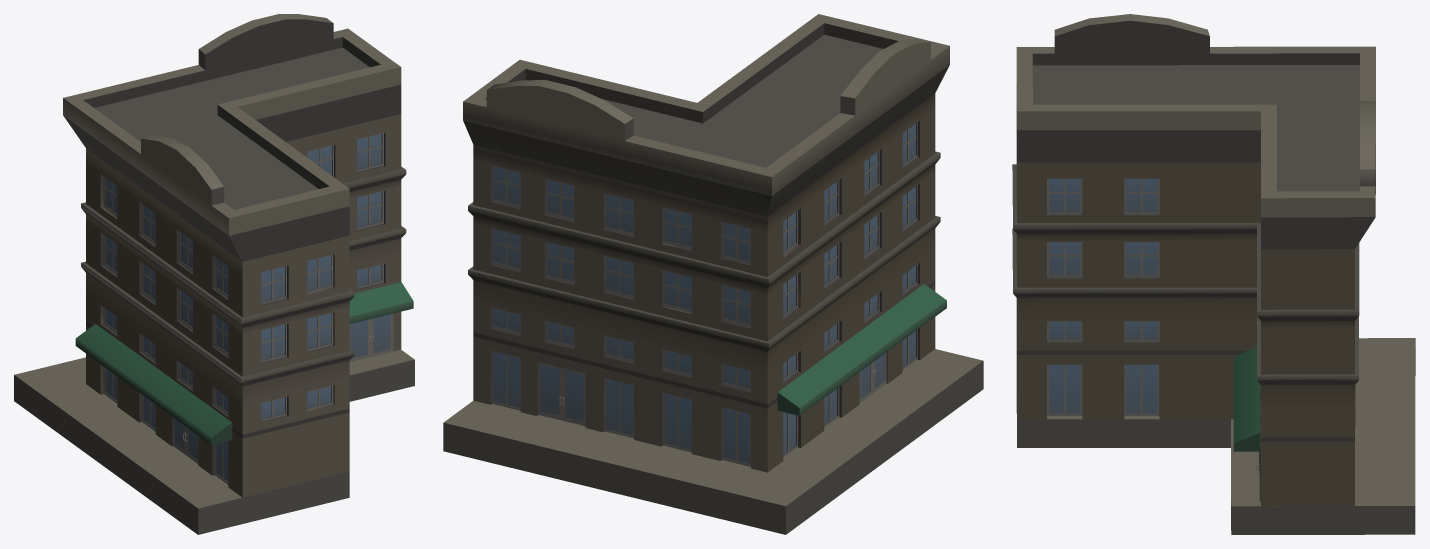
File: buildings-business-commercialbuilding_v1.glb
The picture shows the model from 3 angles, left to right: view 1: azimuth 30°, elevation 25°; view 2: azimuth 150°, elevation 25°; view 3: azimuth 270°, elevation 25°; orthographic projection. The views are drawn at different scales.
Visible parts, largest first — view 1: CommercialBuilding_v1_base, CommercialBuilding_v1_windowRefl, CommercialBuilding_v1_color; view 2: CommercialBuilding_v1_base, CommercialBuilding_v1_windowRefl, CommercialBuilding_v1_color; view 3: CommercialBuilding_v1_base, CommercialBuilding_v1_windowRefl, CommercialBuilding_v1_color.
Boxes of the visible parts, x1=… form: CommercialBuilding_v1_base: x1=14, y1=14, x2=414, y2=534; CommercialBuilding_v1_windowRefl: x1=105, y1=133, x2=390, y2=481; CommercialBuilding_v1_color: x1=75, y1=282, x2=413, y2=444; CommercialBuilding_v1_base: x1=443, y1=14, x2=983, y2=534; CommercialBuilding_v1_windowRefl: x1=493, y1=124, x2=915, y2=463; CommercialBuilding_v1_color: x1=777, y1=284, x2=946, y2=415; CommercialBuilding_v1_base: x1=1012, y1=14, x2=1415, y2=534; CommercialBuilding_v1_windowRefl: x1=1049, y1=179, x2=1157, y2=413; CommercialBuilding_v1_color: x1=1233, y1=347, x2=1260, y2=451.
Size of the model in its own units: 23.58 by 24.02 by 23.65.
